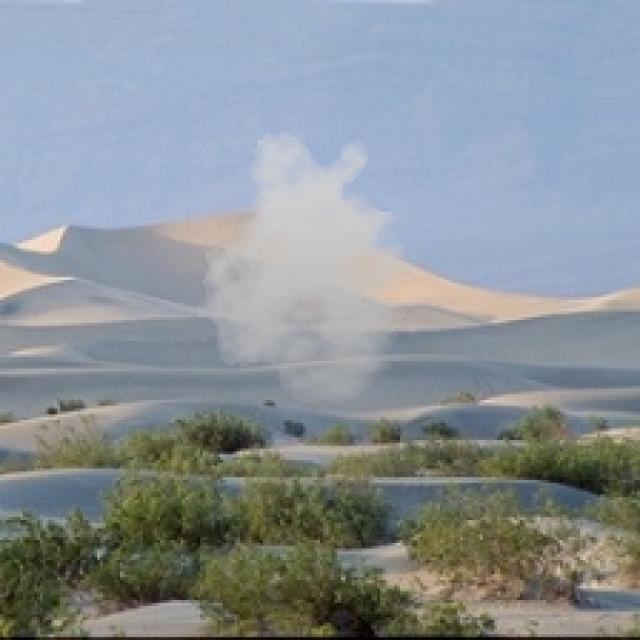smoke: (189, 128, 434, 406)
